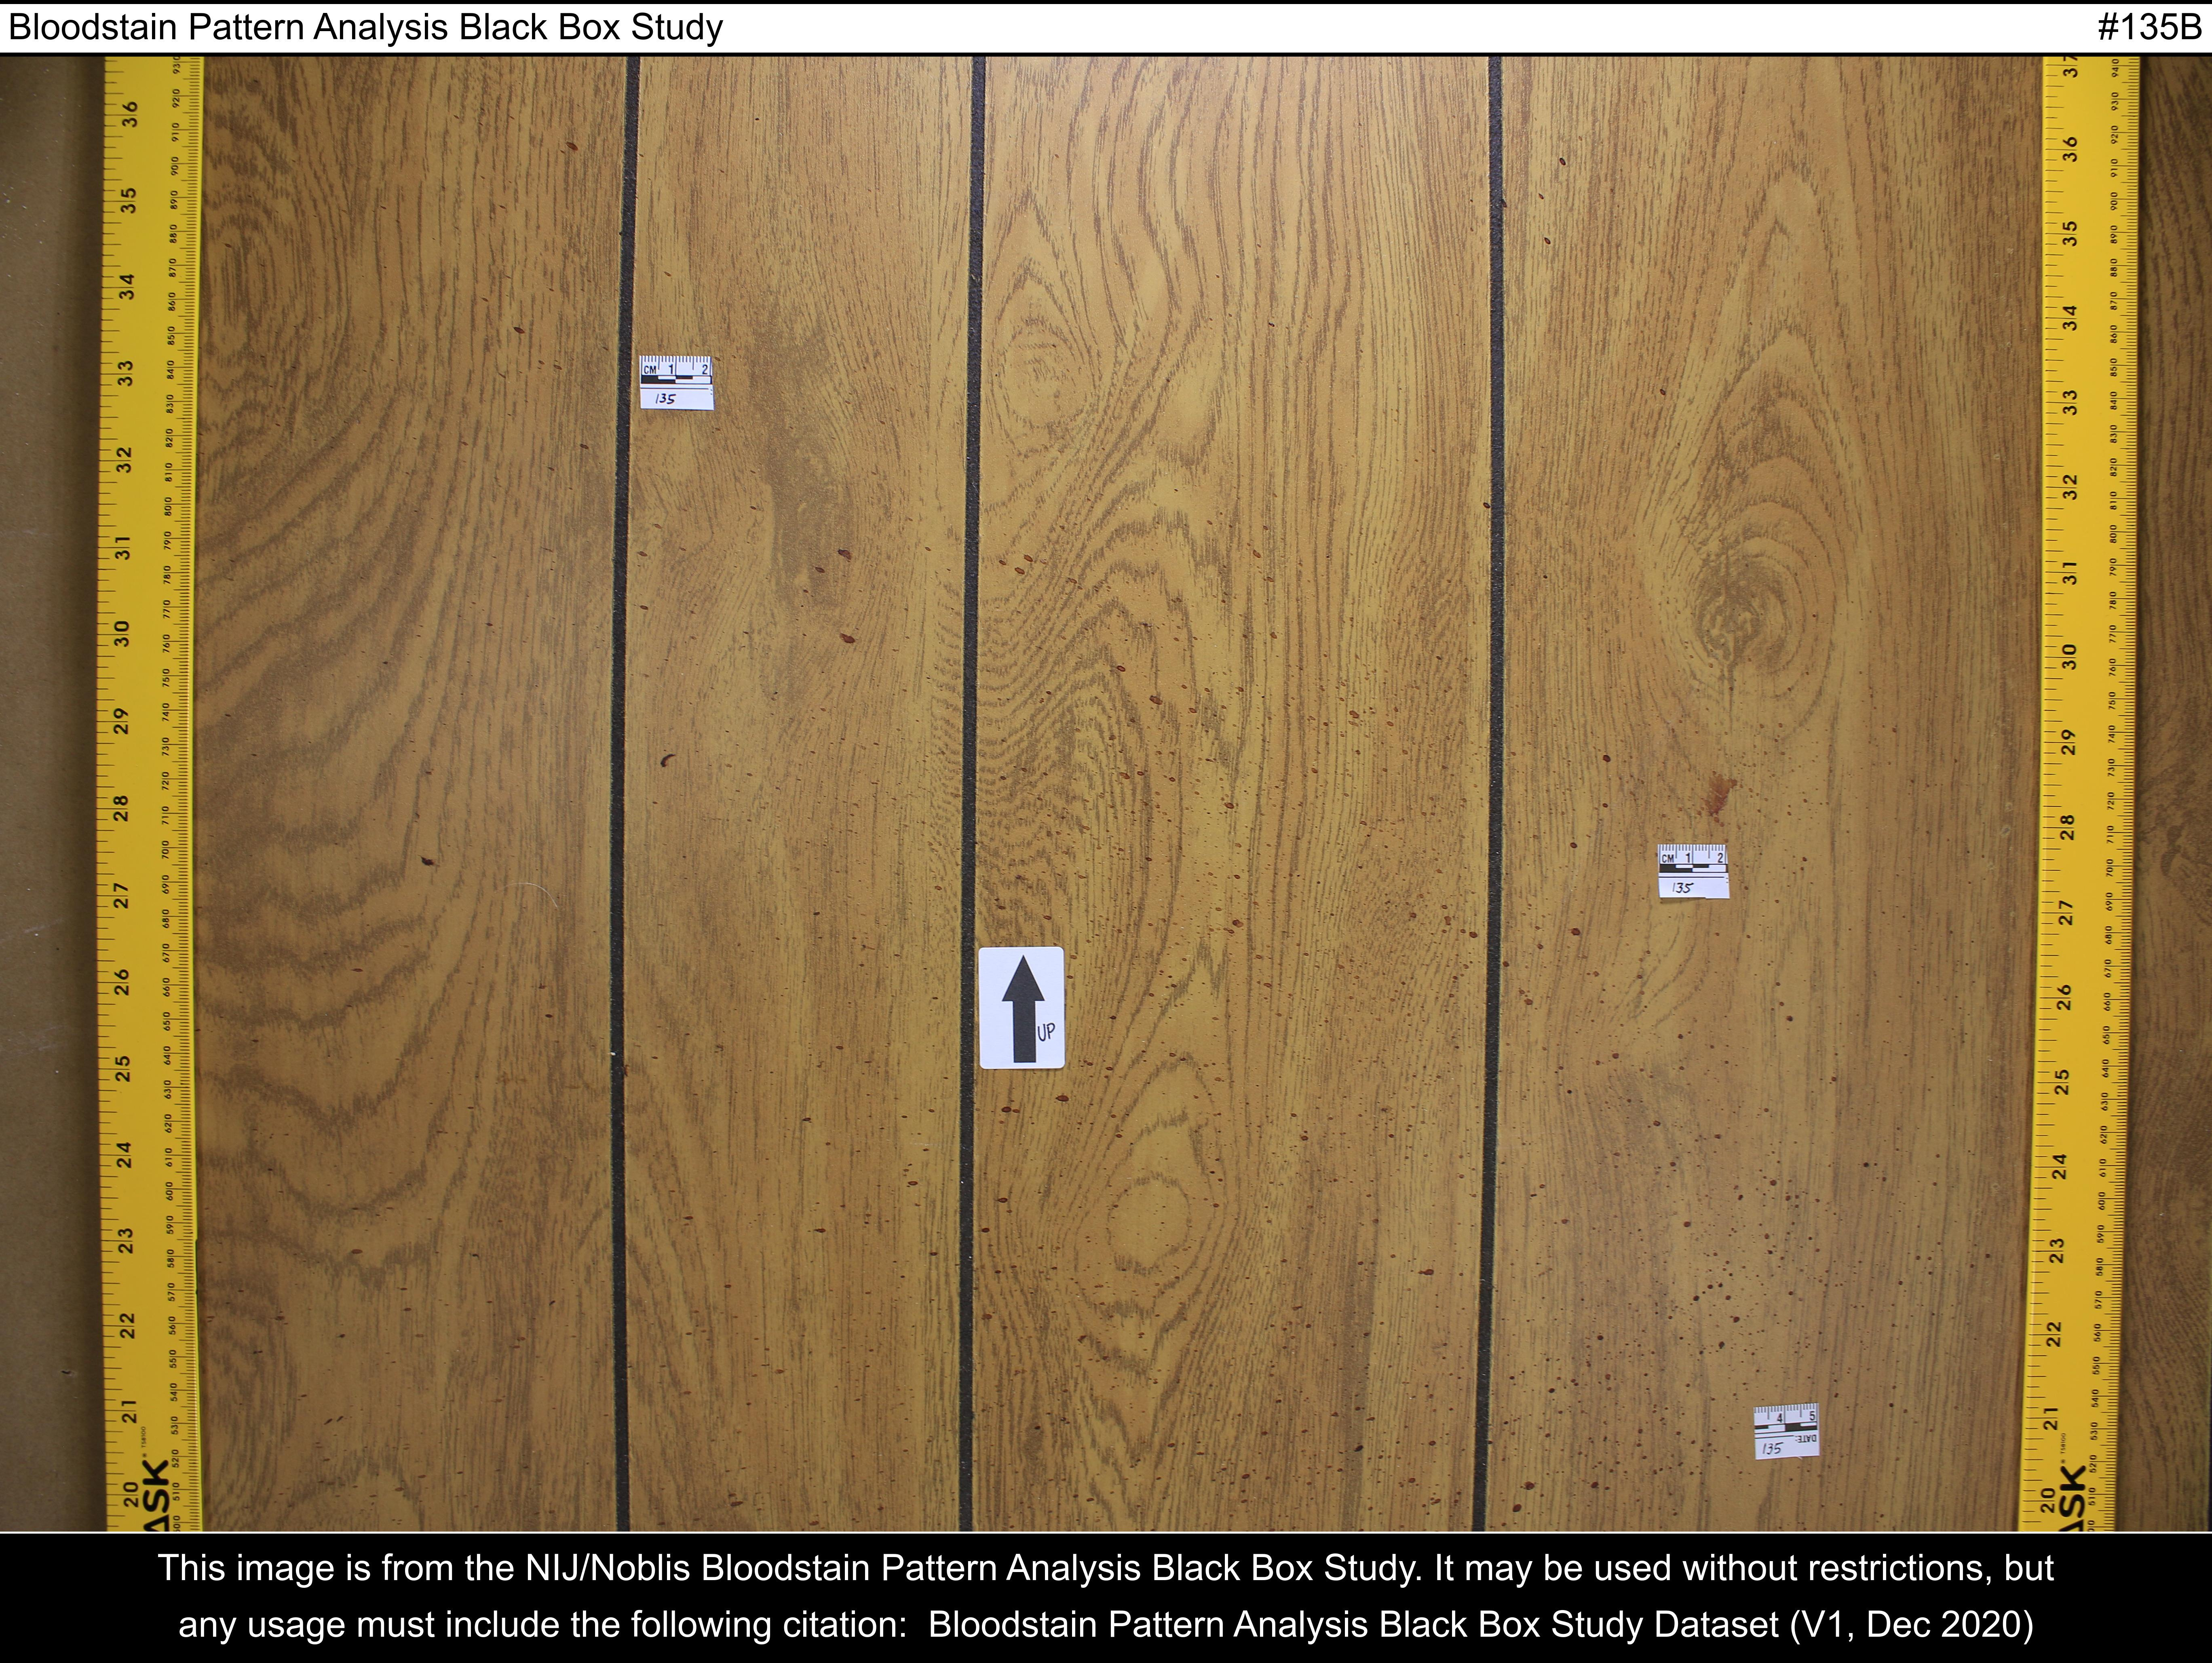Impact: (630, 416, 1364, 919), (1266, 985, 1748, 1494), (1585, 636, 1786, 825)
